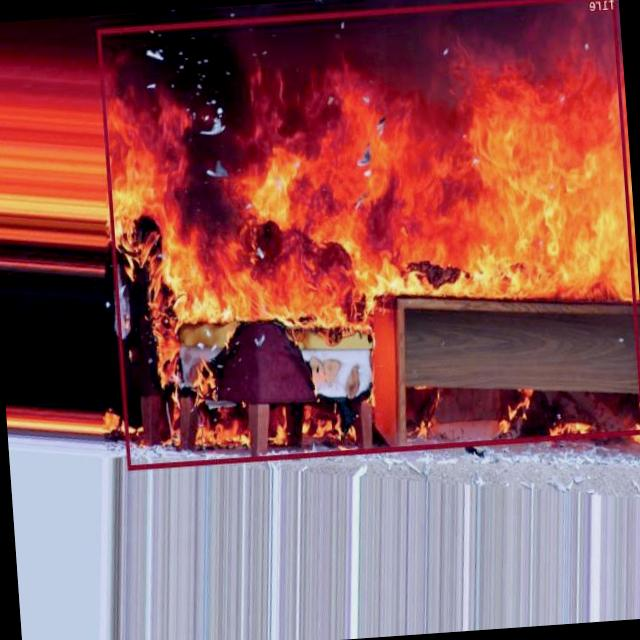fire: (97, 0, 640, 468)
